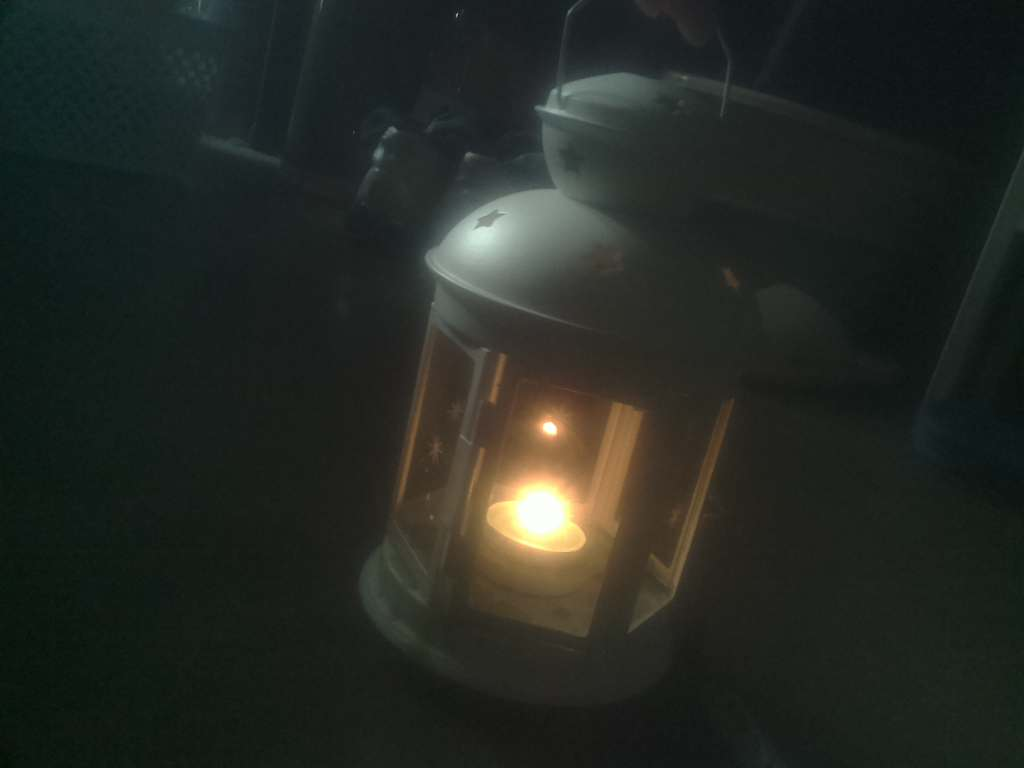fire: (492, 460, 592, 576)
